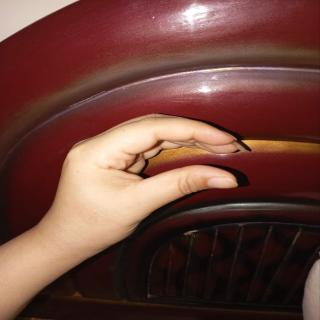JEEM: (31, 99, 255, 263)
